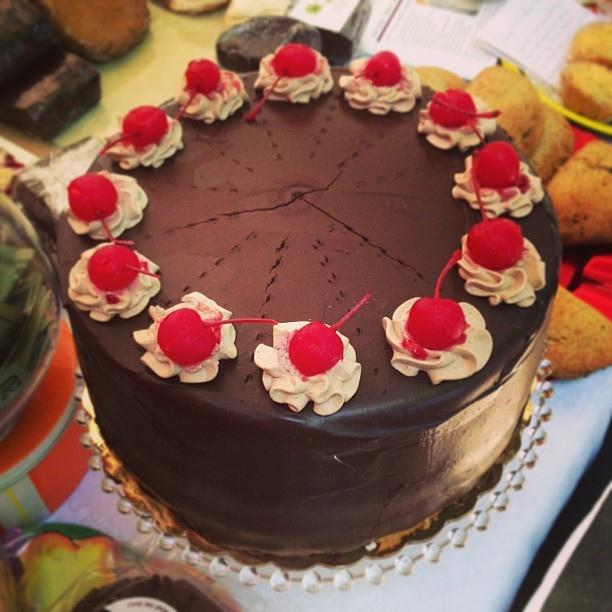cherry: (288, 293, 372, 377), (466, 150, 524, 270), (158, 308, 278, 366), (408, 250, 467, 350), (248, 42, 316, 122), (66, 174, 132, 245), (468, 120, 520, 188), (100, 106, 168, 156), (88, 245, 160, 290), (427, 89, 503, 130), (175, 59, 220, 120), (356, 50, 402, 87)
